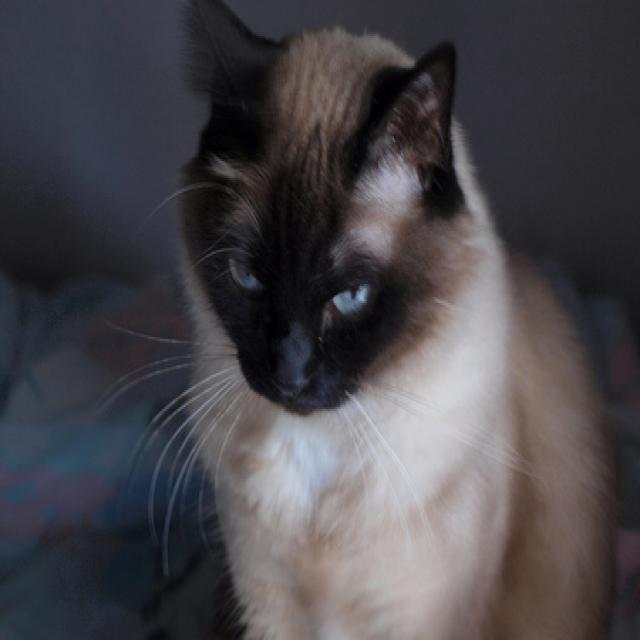Siamese: (167, 0, 618, 640)
